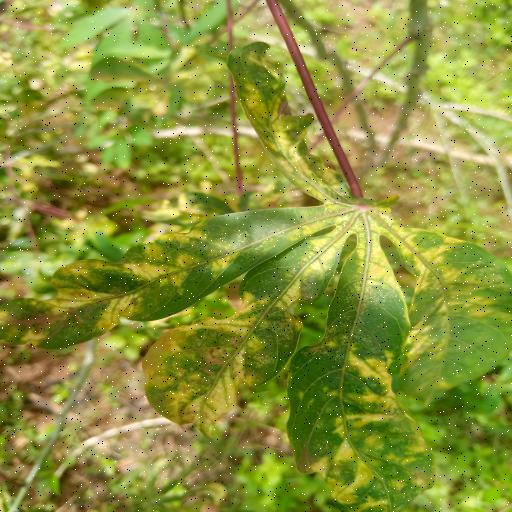Cassava_Mosaic: (0, 41, 512, 512)
